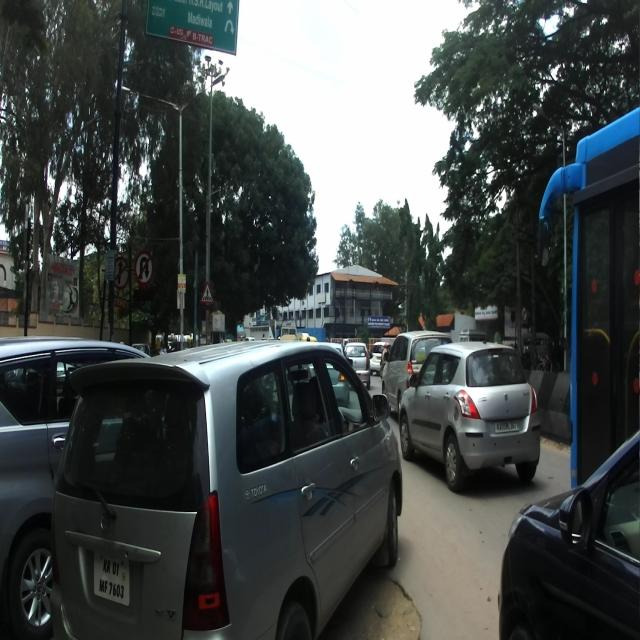bus: (537, 106, 639, 493)
car: (50, 339, 402, 639), (0, 336, 151, 640), (497, 428, 639, 639), (399, 340, 540, 492), (381, 330, 453, 413)
